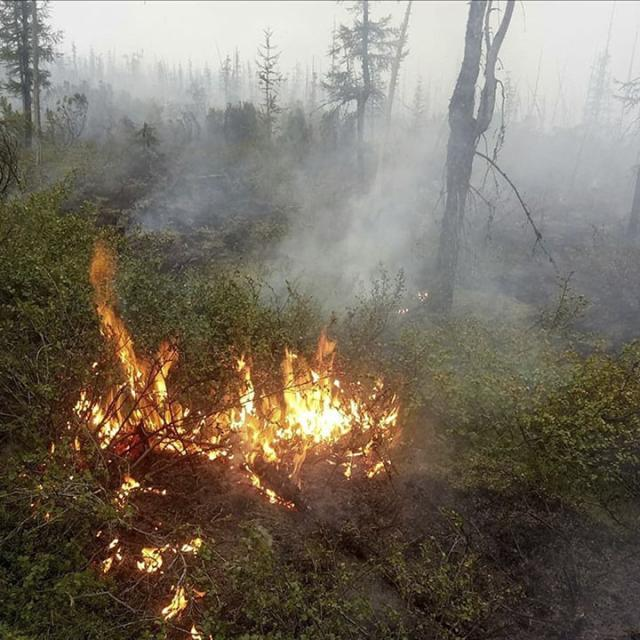Fire: (45, 230, 427, 508), (66, 473, 220, 640)
Smoke: (240, 75, 632, 342), (108, 0, 352, 256), (7, 0, 135, 213)
